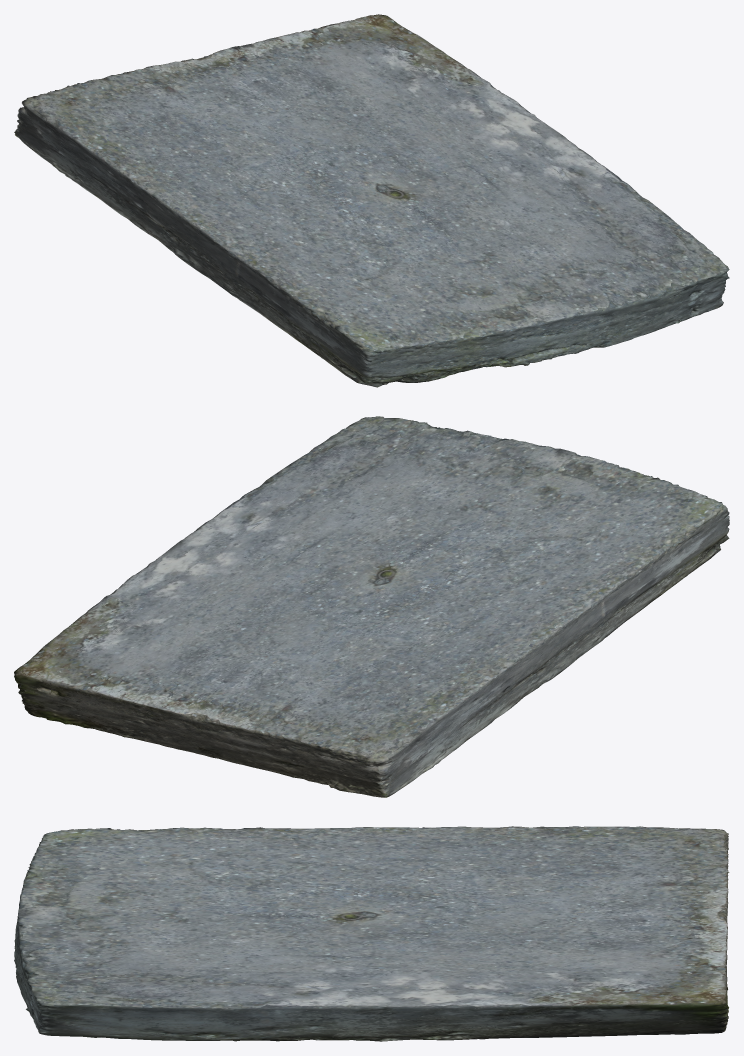
The model's file is ConcreteSlab-optimized.glb.
The picture shows the model from 3 angles, top to bottom: view 1: azimuth 30°, elevation 25°; view 2: azimuth 150°, elevation 25°; view 3: azimuth 270°, elevation 25°; orthographic projection. The views are drawn at different scales.
Visible parts, largest first — view 1: ConcreteSlab; view 2: ConcreteSlab; view 3: ConcreteSlab.
Part boxes in pixels (x1,y1,x2,y2): ConcreteSlab: [14, 14, 729, 387]; ConcreteSlab: [14, 416, 729, 797]; ConcreteSlab: [14, 826, 729, 1041].
Size of the model in its own units: 2.4 by 0.2496 by 4.
1 material, 1 textured.
